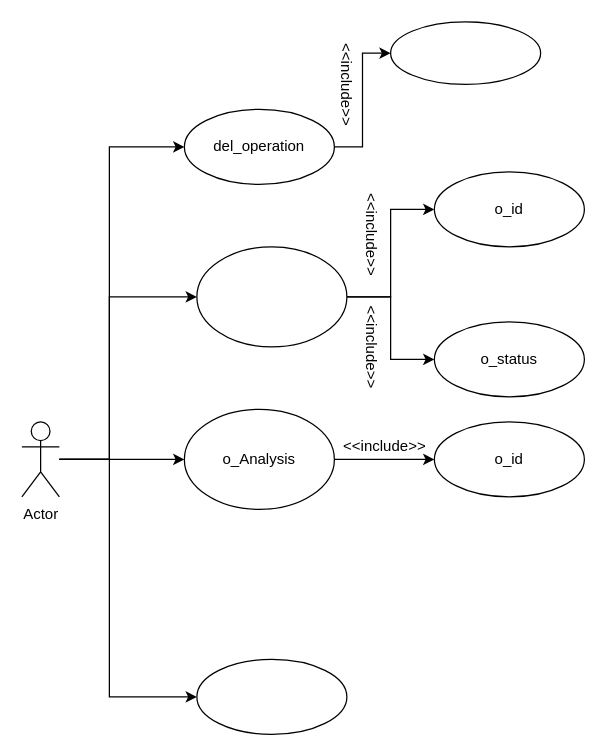
Image size: 606x756. Some labels were removed from this diagram. The centre of each missing label's shape, as x and y in pixels:
"excellence" goes at point (271, 696).
"operation_id" goes at point (465, 52).
"update_operation" goes at point (271, 296).
